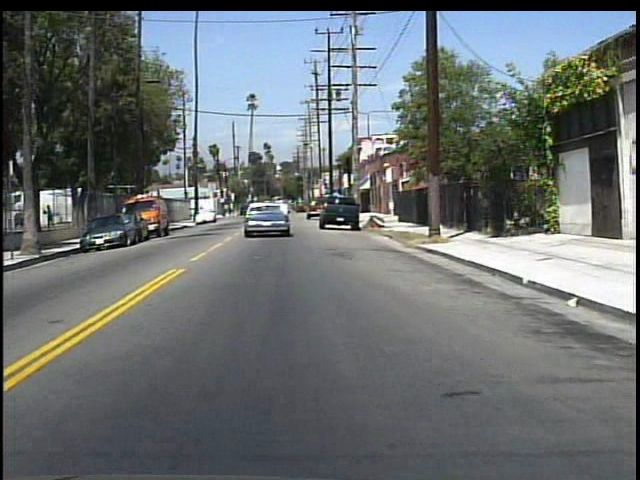person: (45, 201, 59, 232)
